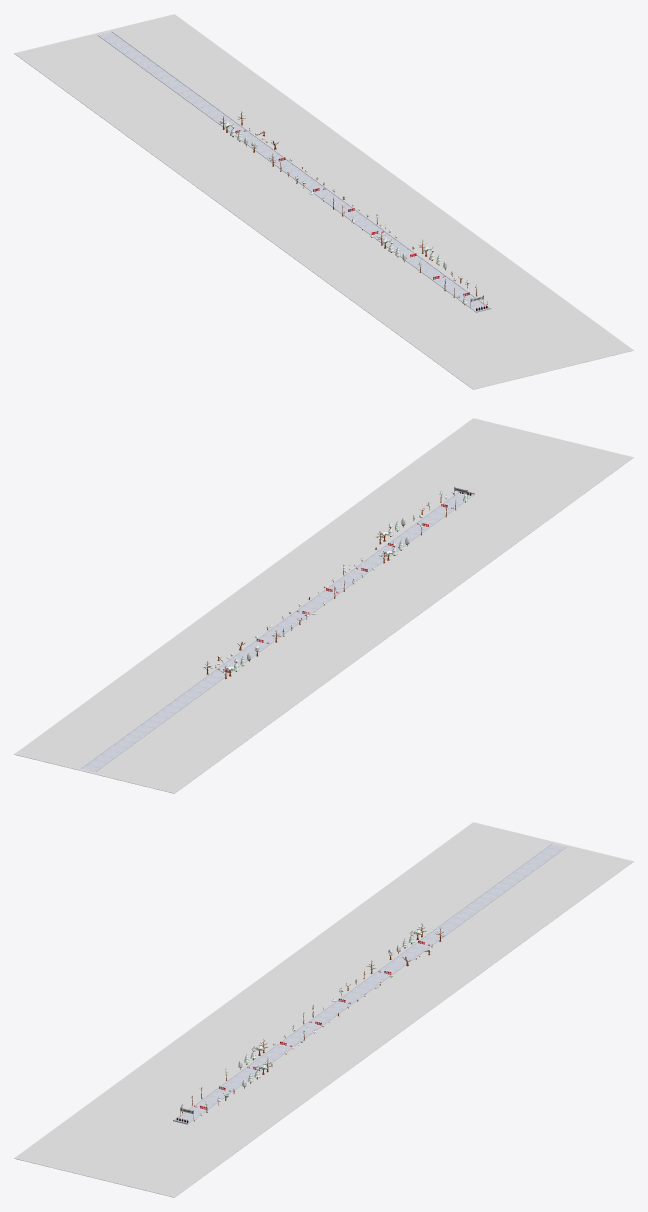
File: map1.glb
The picture shows the model from 3 angles, top to bottom: view 1: azimuth 30°, elevation 25°; view 2: azimuth 150°, elevation 25°; view 3: azimuth 330°, elevation 25°; orthographic projection.
Parts seen in each view (by area): view 1: ground, snowblock-area, left_ground, right_ground; view 2: ground, snowblock-area, left_ground, right_ground; view 3: ground, snowblock-area, right_ground, left_ground.
Part boxes in pixels (<box>): ground: <box>14,14,633,389</box>; snowblock-area: <box>99,32,488,311</box>; left_ground: <box>112,31,489,307</box>; right_ground: <box>97,35,476,312</box>; ground: <box>14,418,633,793</box>; snowblock-area: <box>82,492,473,771</box>; left_ground: <box>81,491,459,768</box>; right_ground: <box>95,494,474,771</box>; ground: <box>14,822,633,1197</box>; snowblock-area: <box>175,844,565,1123</box>; right_ground: <box>174,843,551,1119</box>; left_ground: <box>188,847,566,1123</box>.
Bounding box in the file's own units: 240 × 24.84 × 1189.
7 materials, 6 textured.
